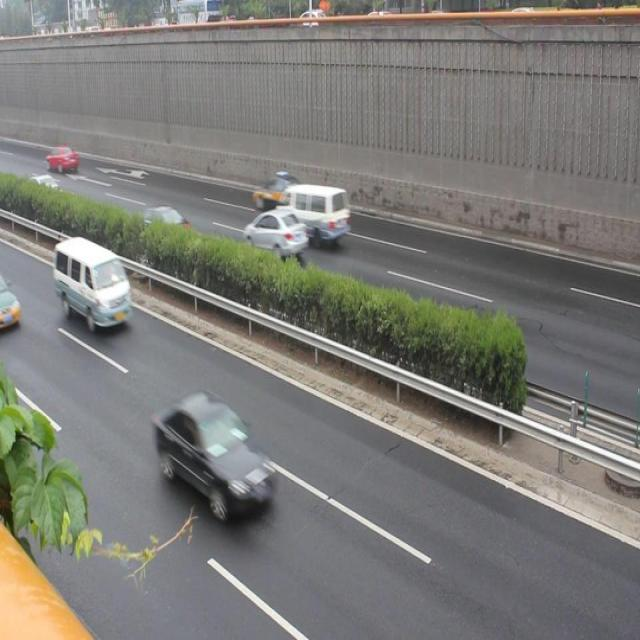car: (153, 380, 279, 528), (244, 204, 307, 262), (136, 198, 196, 248), (1, 272, 29, 344)
truck: (51, 233, 134, 337), (281, 179, 354, 243)
